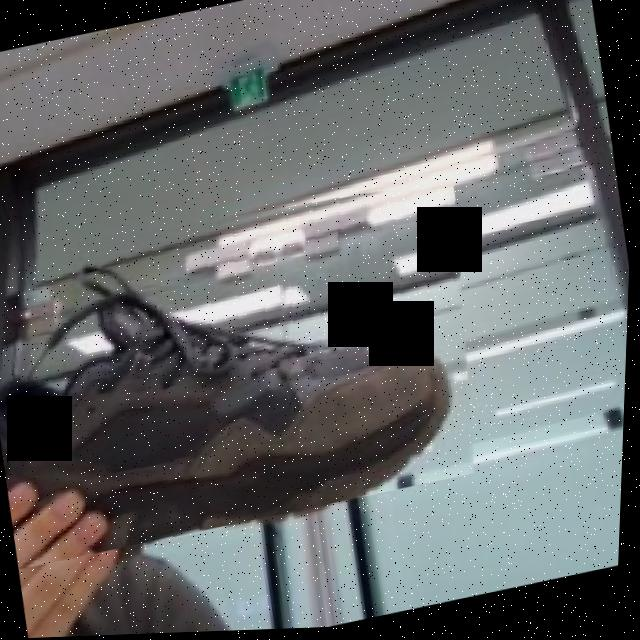shoe: (0, 162, 506, 571)
